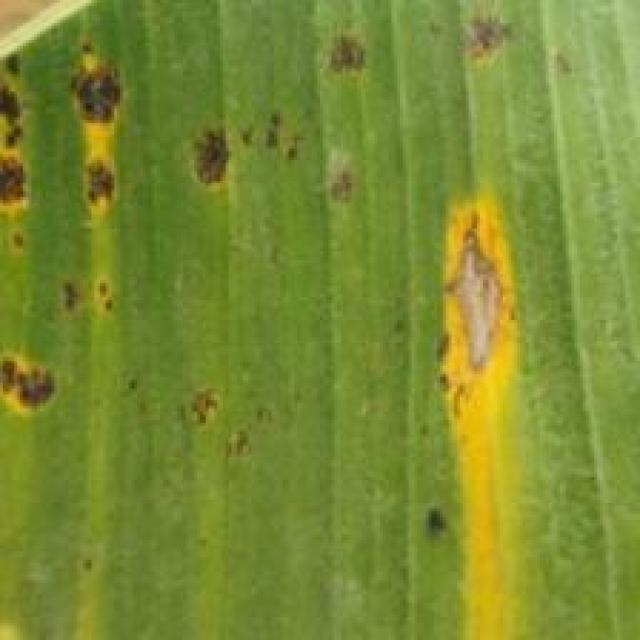Downey_mildrew: (0, 0, 640, 436), (380, 403, 626, 640)
